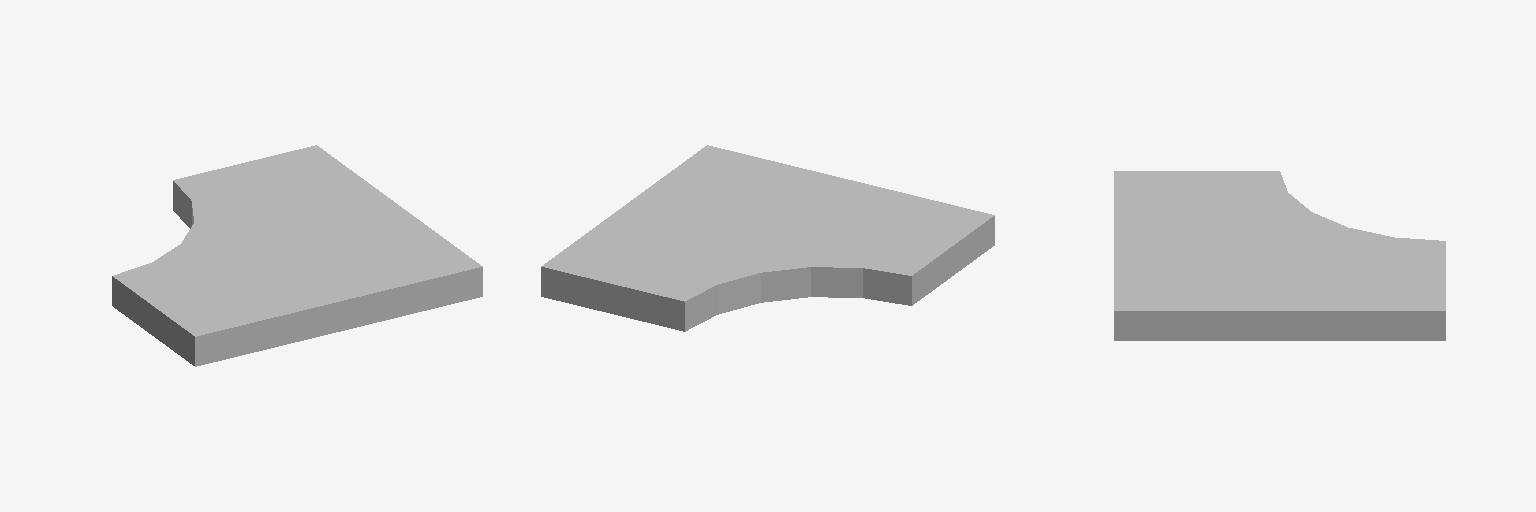
The model's file is ManPad_CNR_1Grind.obj.
3 views of the same model, side by side, from view 1: azimuth 30°, elevation 25°; view 2: azimuth 150°, elevation 25°; view 3: azimuth 270°, elevation 25° (orthographic).
Visible parts, largest first — view 1: ManPad_CNR_1Grind; view 2: ManPad_CNR_1Grind; view 3: ManPad_CNR_1Grind.
Boxes of the visible parts, x1,y1,x2,y2 form: ManPad_CNR_1Grind: [112, 145, 482, 366]; ManPad_CNR_1Grind: [541, 145, 994, 331]; ManPad_CNR_1Grind: [1114, 171, 1445, 340].
Bounding box in the file's own units: 10 × 1 × 10.